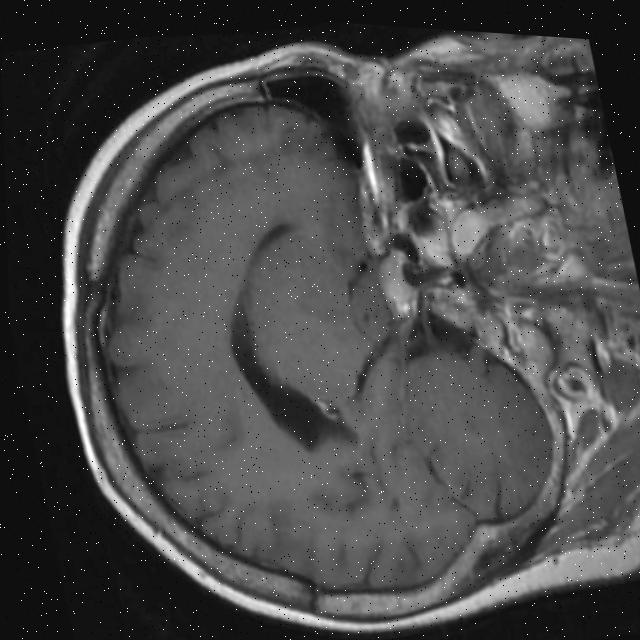Pituitary: (374, 244, 418, 304)
